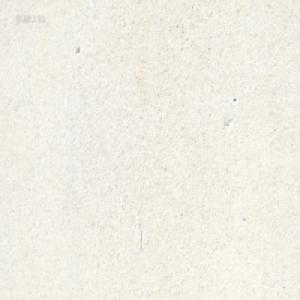Wrench: (144, 0, 150, 4)
